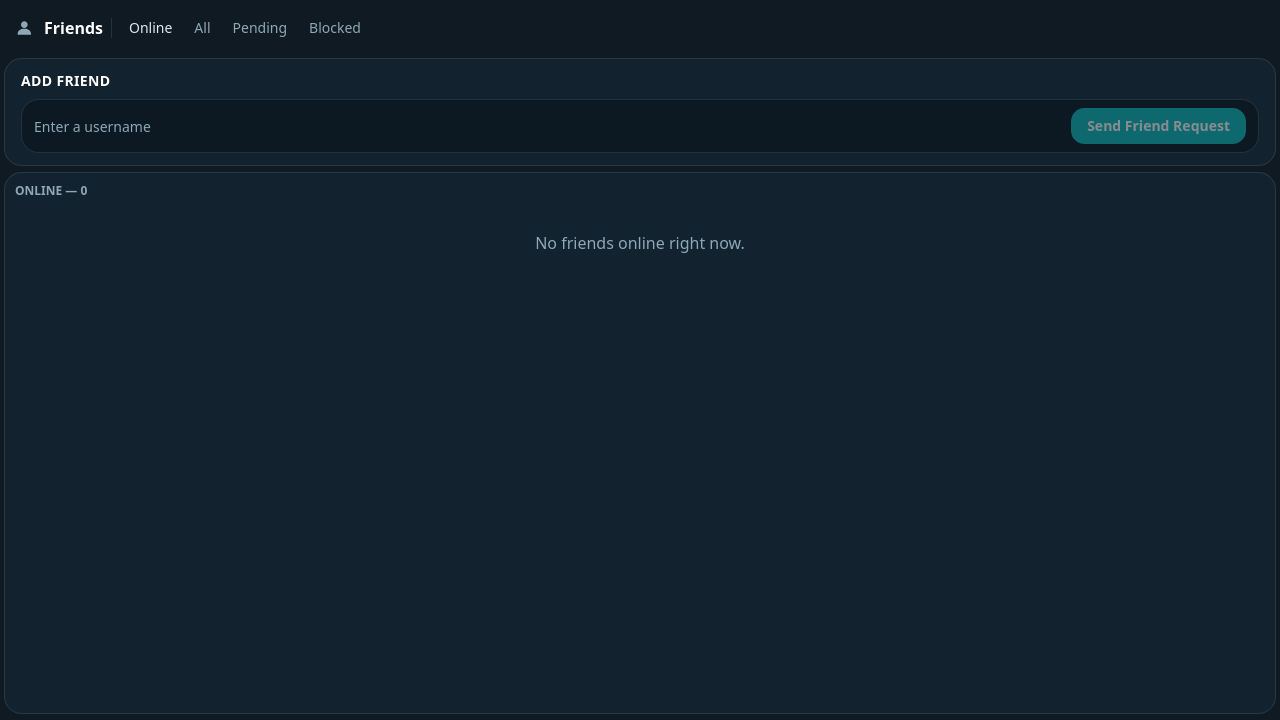
Scenario: FriendsList › sends friend request and shows success
Type "bob" into the field with placeholder "Enter a username" at [549, 126], box [34,108,1063,144]
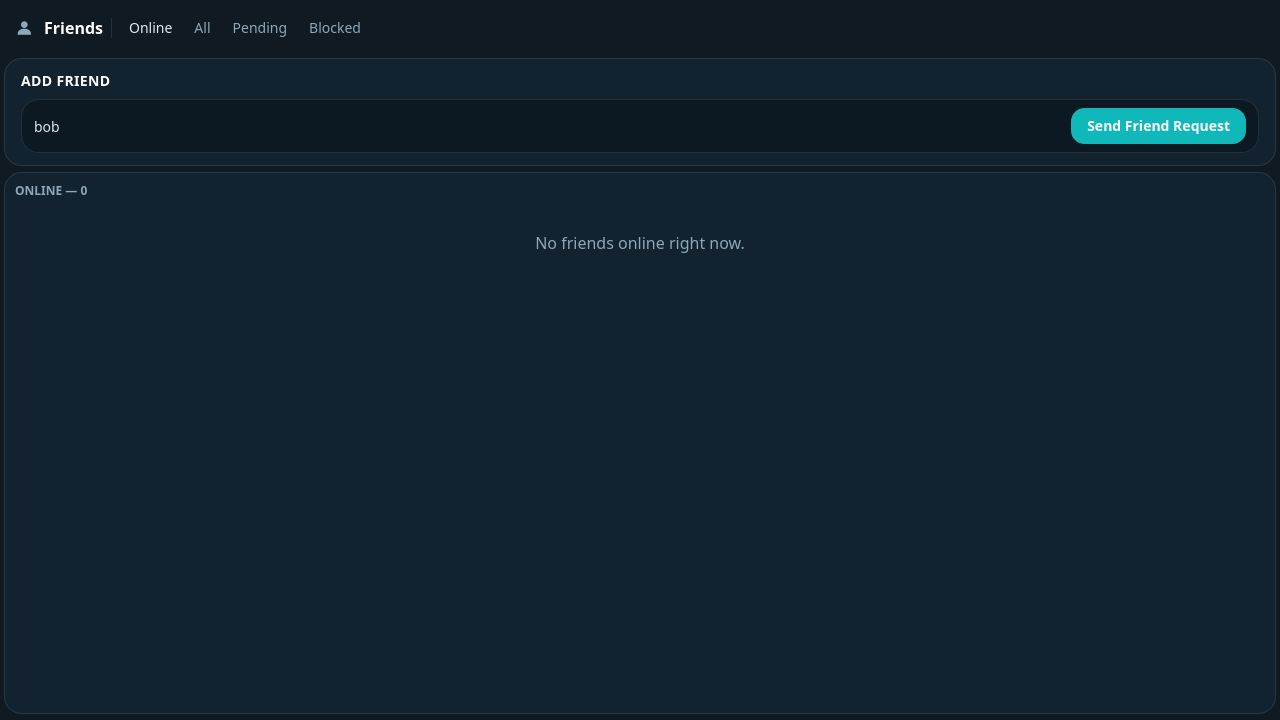
Click the button "Send Friend Request" at [1159, 126], box [1071,108,1246,144]
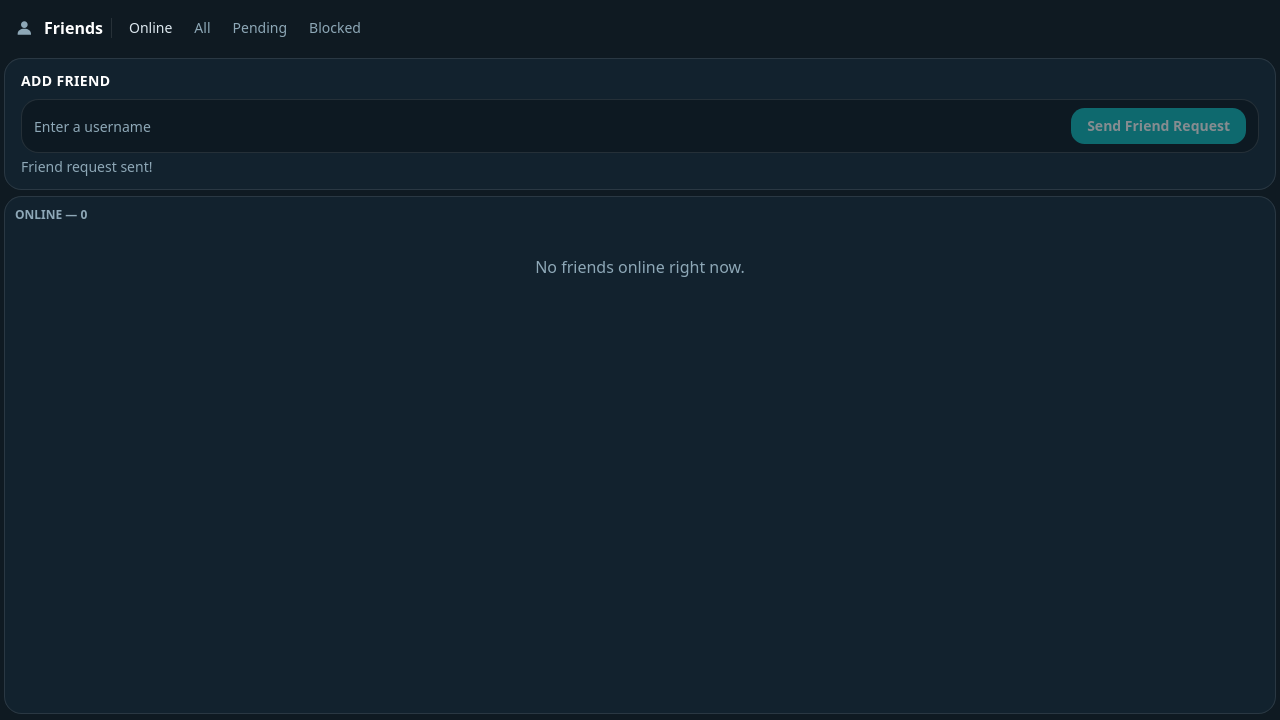
Check: the text "Friend request sent!" is shown, box [21,157,152,176]
